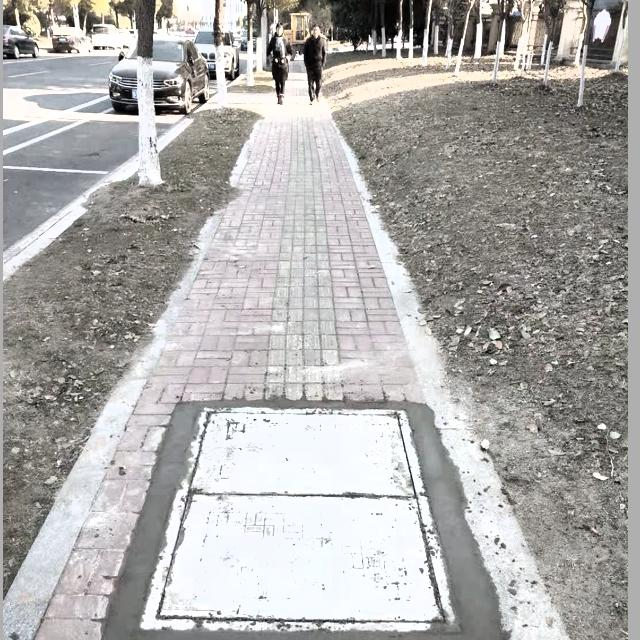good: (138, 406, 460, 632)
